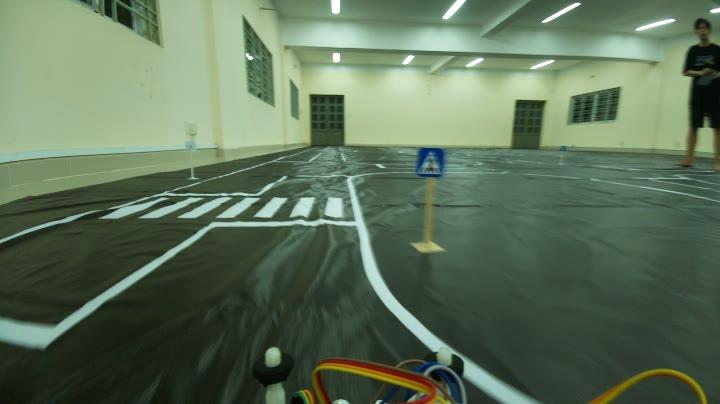crosswalk: (407, 145, 451, 180)
